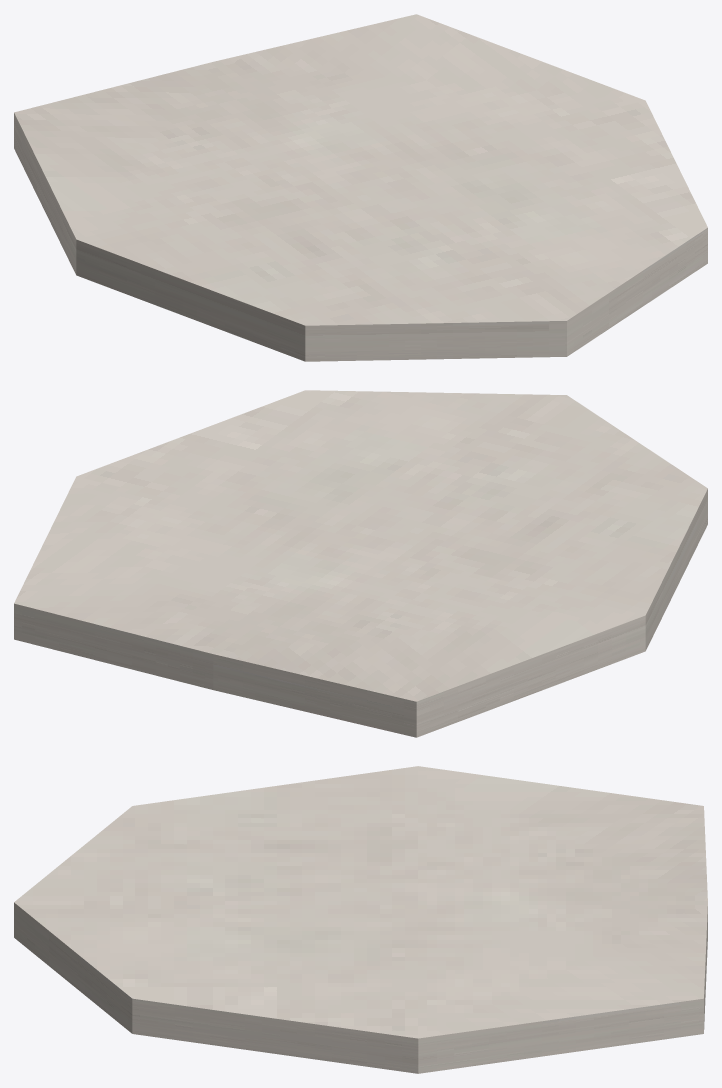
Rendered from toilet_lid.glb.
3 renders of one model, top to bottom at view 1: azimuth 30°, elevation 25°; view 2: azimuth 150°, elevation 25°; view 3: azimuth 270°, elevation 25°, orthographic.
Parts seen in each view (by area): view 1: toilet_lid; view 2: toilet_lid; view 3: toilet_lid.
Part boxes in pixels (left/top/right/bottom): toilet_lid: left=14, top=14, right=707, bottom=361; toilet_lid: left=14, top=390, right=707, bottom=737; toilet_lid: left=14, top=766, right=707, bottom=1073.
Size of the model in its own units: 0.549 by 0.0332 by 0.591.
1 material, 1 textured.
